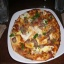pizza: (6, 8, 60, 57)
